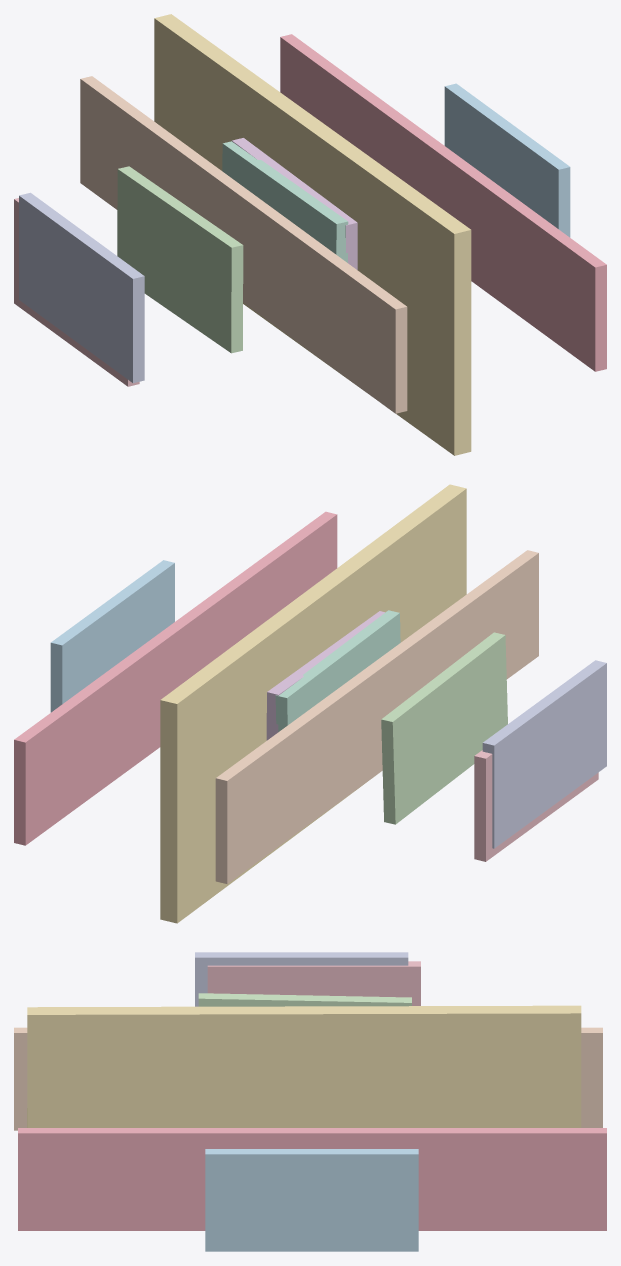
The model's file is view_input_colored.glb.
3 renders of one model, top to bottom at view 1: azimuth 30°, elevation 25°; view 2: azimuth 150°, elevation 25°; view 3: azimuth 270°, elevation 25°, orthographic. The views are drawn at different scales.
Parts seen in each view (by area): view 1: world; view 2: world; view 3: world.
Boxes of the visible parts, x1,y1,x2,y2 form: world: (14,14,606,455); world: (14,484,606,923); world: (14,952,606,1251).
Size of the model in its own units: 0.8461 by 0.4054 by 1.05.
